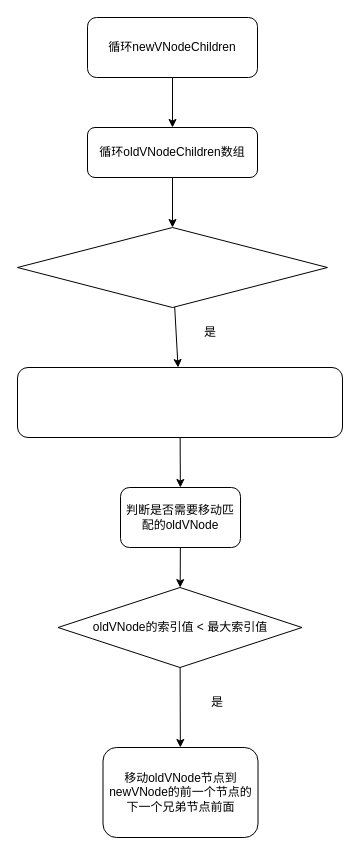
Image size: 360x855. Some labels were removed from this diagram. The shapes that lost their labels are listed below. From the top down, each one's box as (x1, y1, x2, y2) in pixels, then its label:
(16, 226, 328, 308): newVNode.key == oldVNode.key
(16, 366, 342, 438): patch(oldVNode, newVNode,container) 更新虚拟DOM信息
